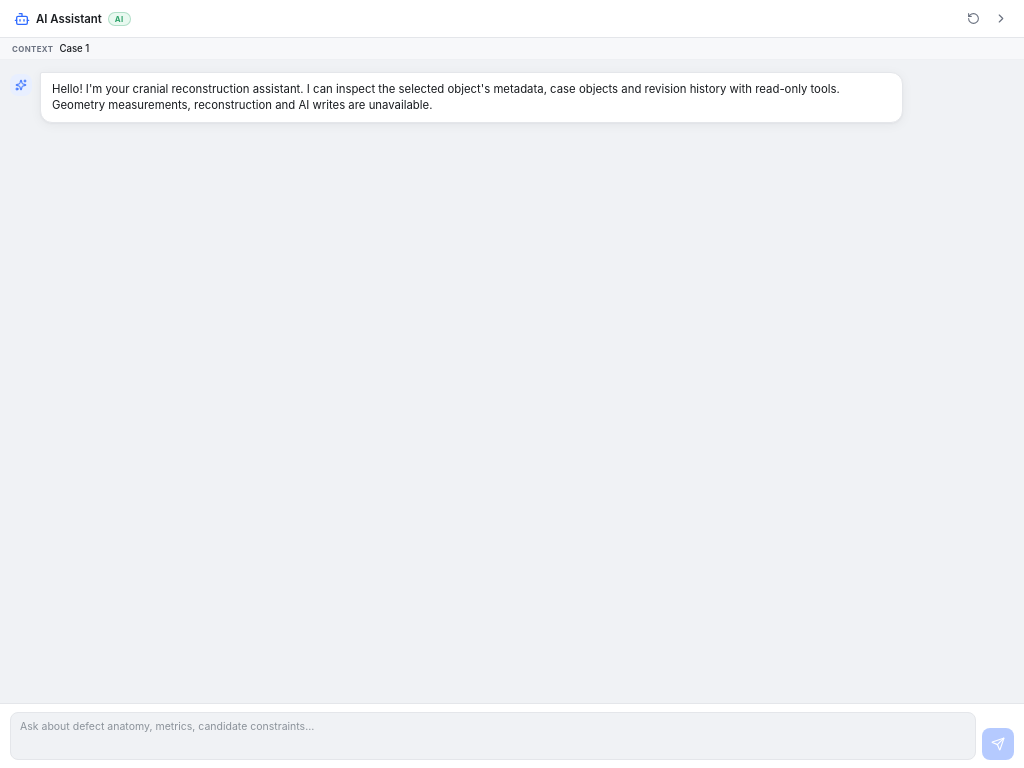
Test: AiChatPanel Gemini FastAPI integration › sends user message and receives backend response
Expected: the text "cranial reconstruction assistant" is shown, [52,82,843,112]
Type "measure defect" into the text box named "Message for AI assistant".
click(493, 736); type("measure defect")  # box [10,712,976,760]
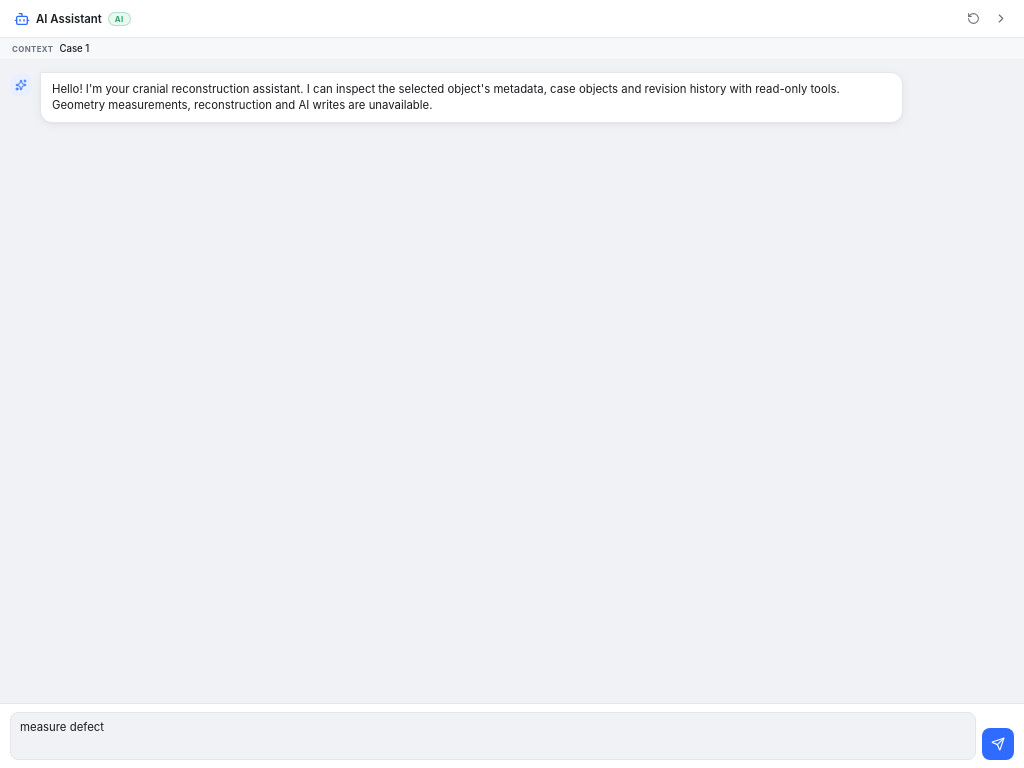
Click the button named "Send message to AI assistant".
click(998, 744)  # box [982,728,1014,760]
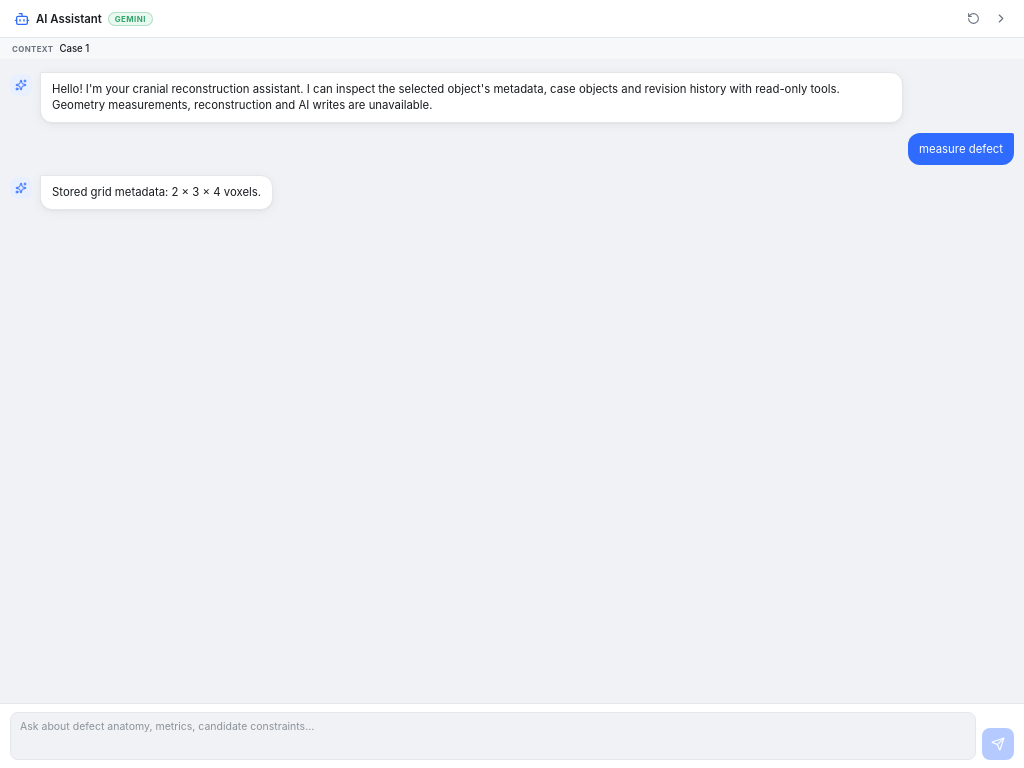
Result: the text "measure defect" is shown at [919,142,1003,156]
Result: the text "Stored grid metadata: 2 × 3 × 4 voxels." is shown at [52,186,261,200]
